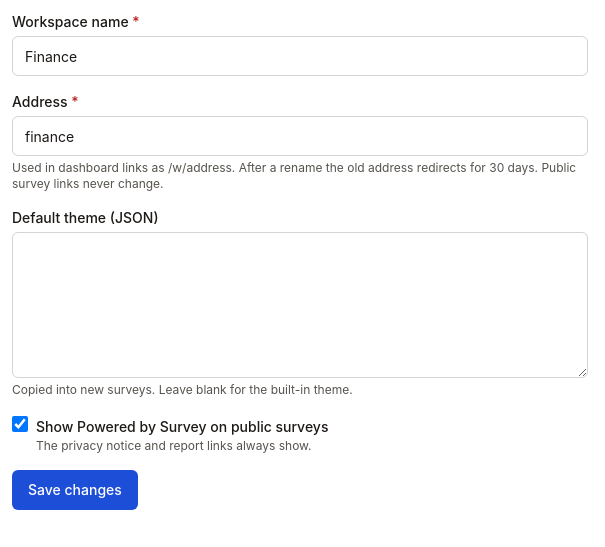
GeneralForm › shows field errors from the server
Click the button "Save changes".
click(75, 490)  # box x1=12 y1=470 x2=138 y2=510
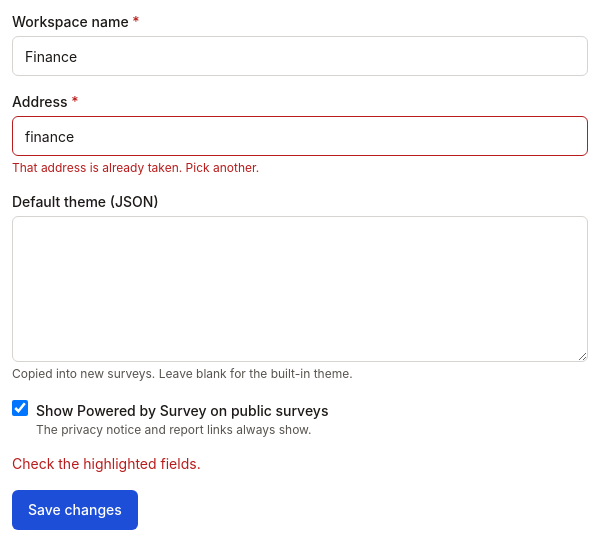
Check: the text "That address is already taken. Pick another." is shown, box x1=12 y1=160 x2=259 y2=175
